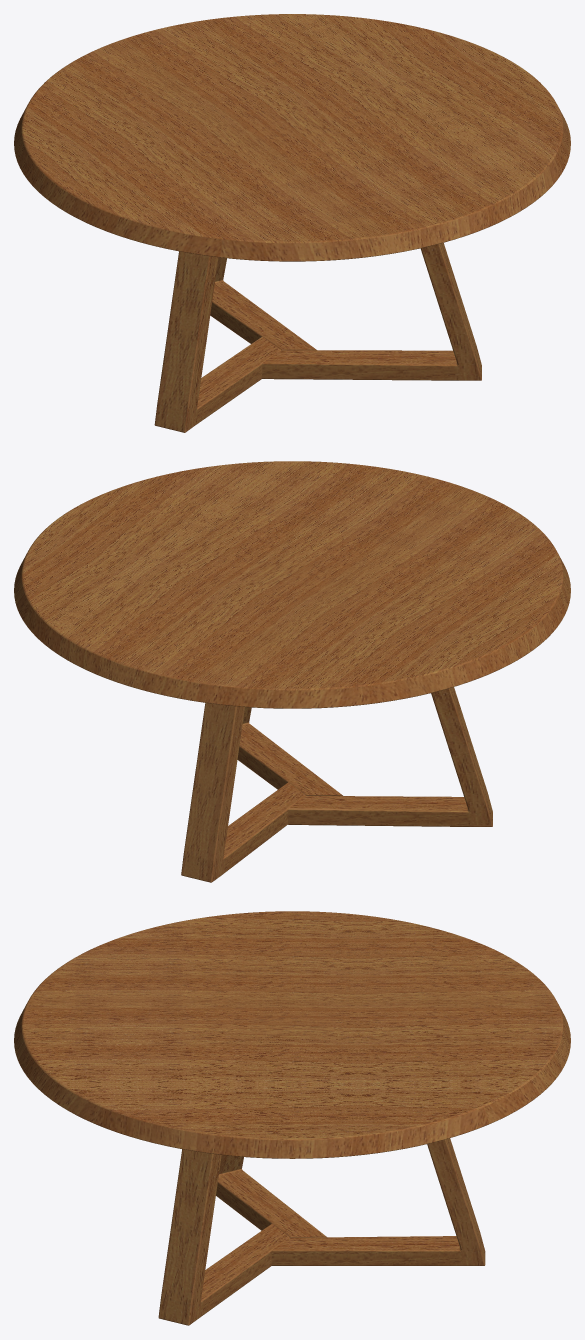
File: dining table fixed.obj
3 renders of one model, top to bottom at view 1: azimuth 30°, elevation 25°; view 2: azimuth 150°, elevation 25°; view 3: azimuth 270°, elevation 25°, orthographic.
Parts seen in each view (by area): view 1: diningtable:Mesh; view 2: diningtable:Mesh; view 3: diningtable:Mesh.
Part boxes in pixels (x1=…): diningtable:Mesh: x1=14, y1=14, x2=570, y2=432; diningtable:Mesh: x1=14, y1=461, x2=570, y2=882; diningtable:Mesh: x1=14, y1=911, x2=570, y2=1325.
Size of the model in its own units: 4.9 by 2.28 by 4.9.
Materials: 1 (1 with a texture image).
